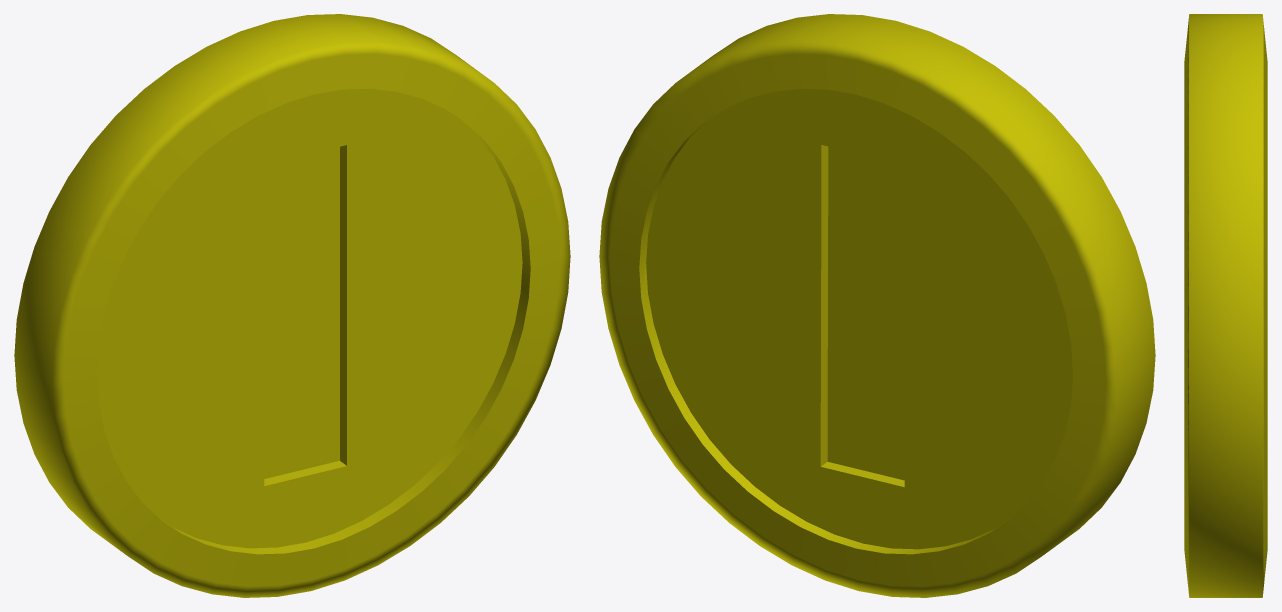
File: coin.fbx
The picture shows the model from 3 angles, left to right: view 1: azimuth 30°, elevation 25°; view 2: azimuth 150°, elevation 25°; view 3: azimuth 270°, elevation 25°; orthographic projection. The views are drawn at different scales.
Visible parts, largest first — view 1: bevelPolygon1; view 2: bevelPolygon1; view 3: bevelPolygon1.
Part boxes in pixels (bbox=[...]): bevelPolygon1: bbox=[14, 14, 570, 597]; bevelPolygon1: bbox=[599, 14, 1155, 597]; bevelPolygon1: bbox=[1184, 14, 1267, 597].
Size of the model in its own units: 120 by 120 by 17.
